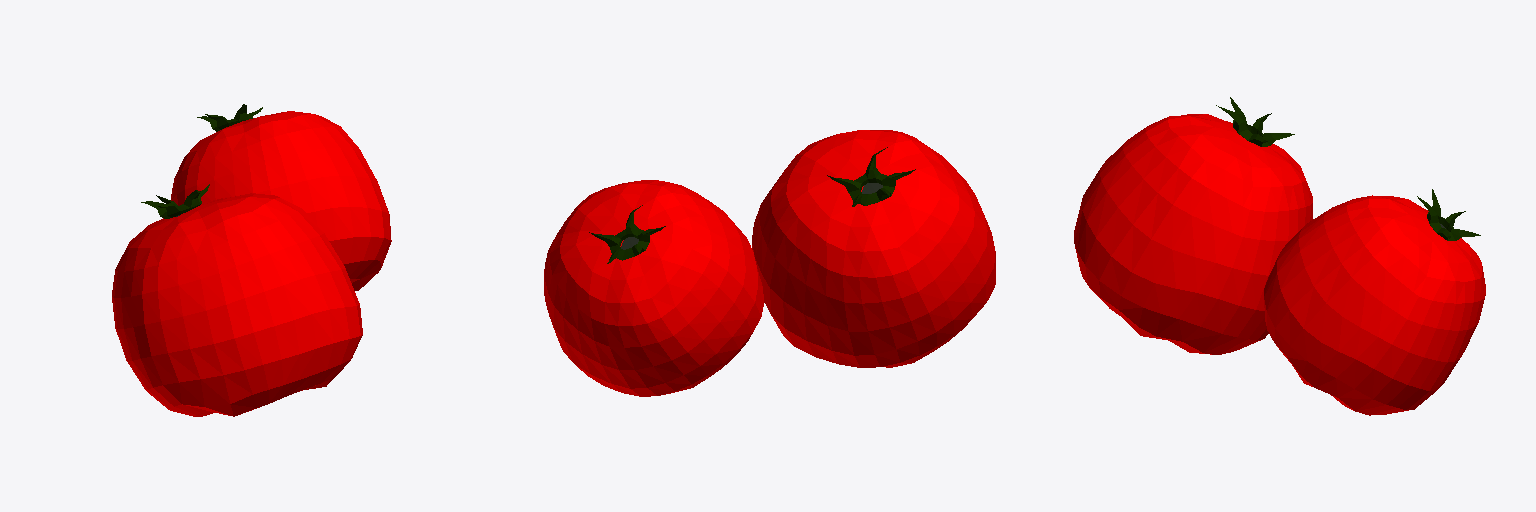
File: Tomatoes.obj
3 renders of one model, left to right at view 1: azimuth 30°, elevation 25°; view 2: azimuth 150°, elevation 25°; view 3: azimuth 270°, elevation 25°, orthographic.
Parts seen in each view (by area): view 1: Mesh7 Group6 Group4 Model, Mesh3 Group3 Group1 Model, Mesh5 Group5 Group4 Model, Mesh1 Group2 Group1 Model; view 2: Mesh7 Group6 Group4 Model, Mesh3 Group3 Group1 Model, Mesh5 Group5 Group4 Model, Mesh1 Group2 Group1 Model; view 3: Mesh7 Group6 Group4 Model, Mesh3 Group3 Group1 Model, Mesh5 Group5 Group4 Model, Mesh1 Group2 Group1 Model.
Boxes of the visible parts, <box> form: Mesh7 Group6 Group4 Model: <box>112,193,362,416</box>; Mesh3 Group3 Group1 Model: <box>171,111,391,290</box>; Mesh5 Group5 Group4 Model: <box>141,184,209,218</box>; Mesh1 Group2 Group1 Model: <box>197,104,262,131</box>; Mesh7 Group6 Group4 Model: <box>752,130,995,367</box>; Mesh3 Group3 Group1 Model: <box>544,180,763,396</box>; Mesh5 Group5 Group4 Model: <box>827,147,915,206</box>; Mesh1 Group2 Group1 Model: <box>589,205,665,263</box>; Mesh7 Group6 Group4 Model: <box>1074,114,1312,354</box>; Mesh3 Group3 Group1 Model: <box>1264,195,1485,415</box>; Mesh5 Group5 Group4 Model: <box>1216,97,1294,146</box>; Mesh1 Group2 Group1 Model: <box>1417,189,1480,240</box>.
Size of the model in its own units: 0.1395 by 0.0861 by 0.1498.